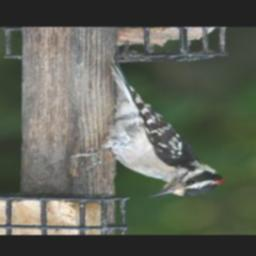Woodpecker: (70, 59, 223, 197)
